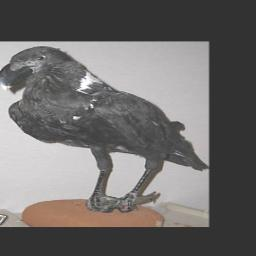Crow: (0, 46, 207, 214)
